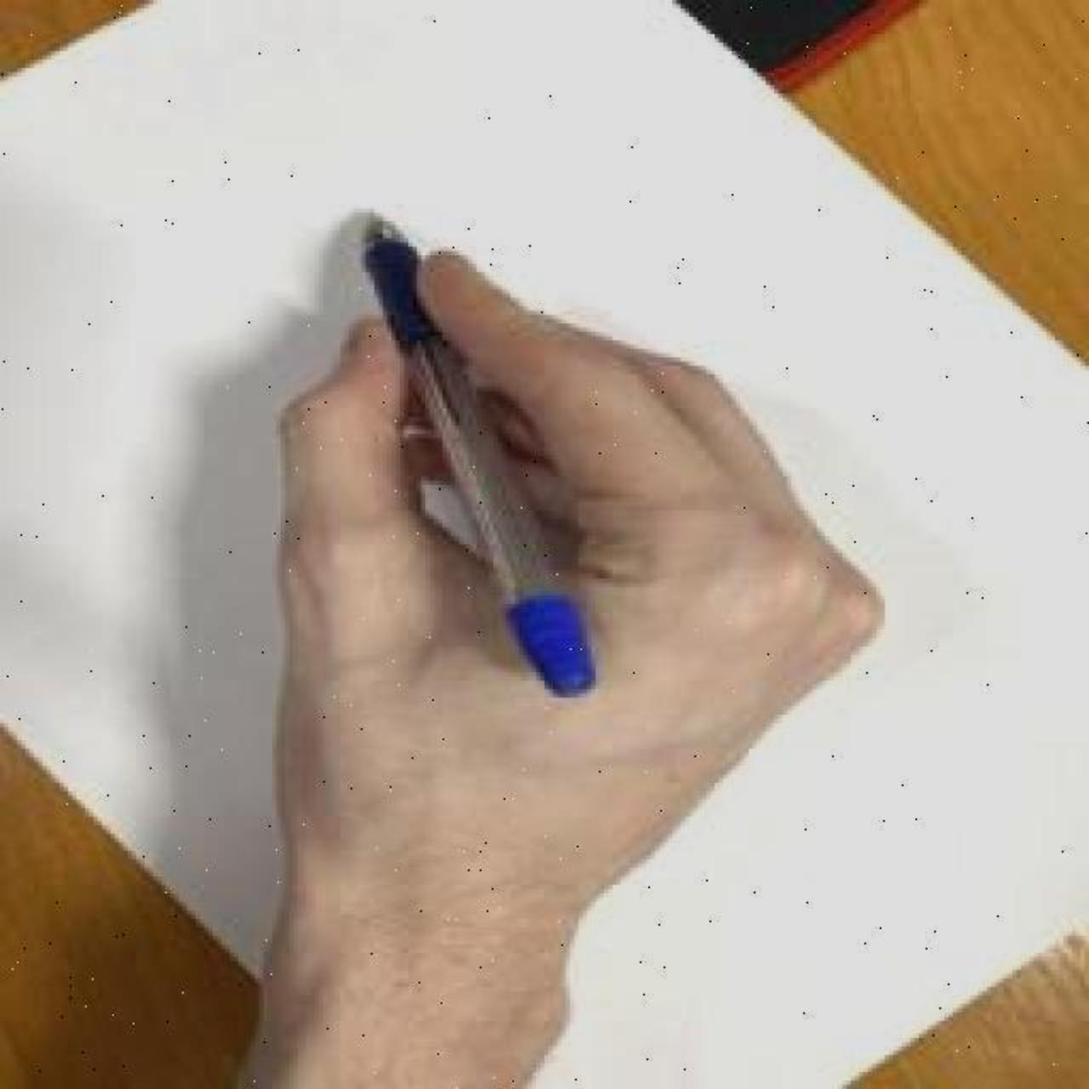pen: (357, 209, 596, 699)
